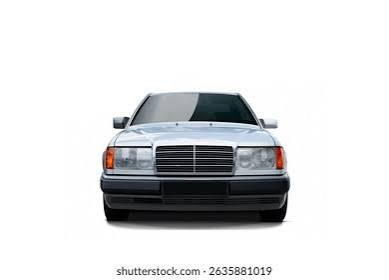car: (92, 93, 291, 222)
